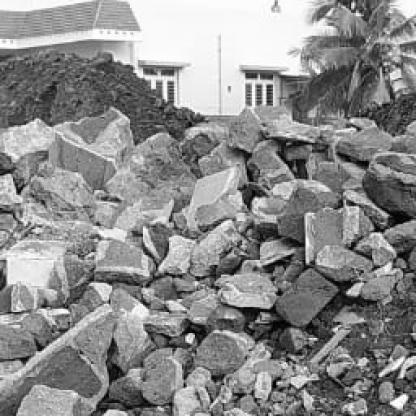cementitious_debris: (216, 276, 414, 413), (1, 44, 207, 144), (355, 91, 414, 137)
